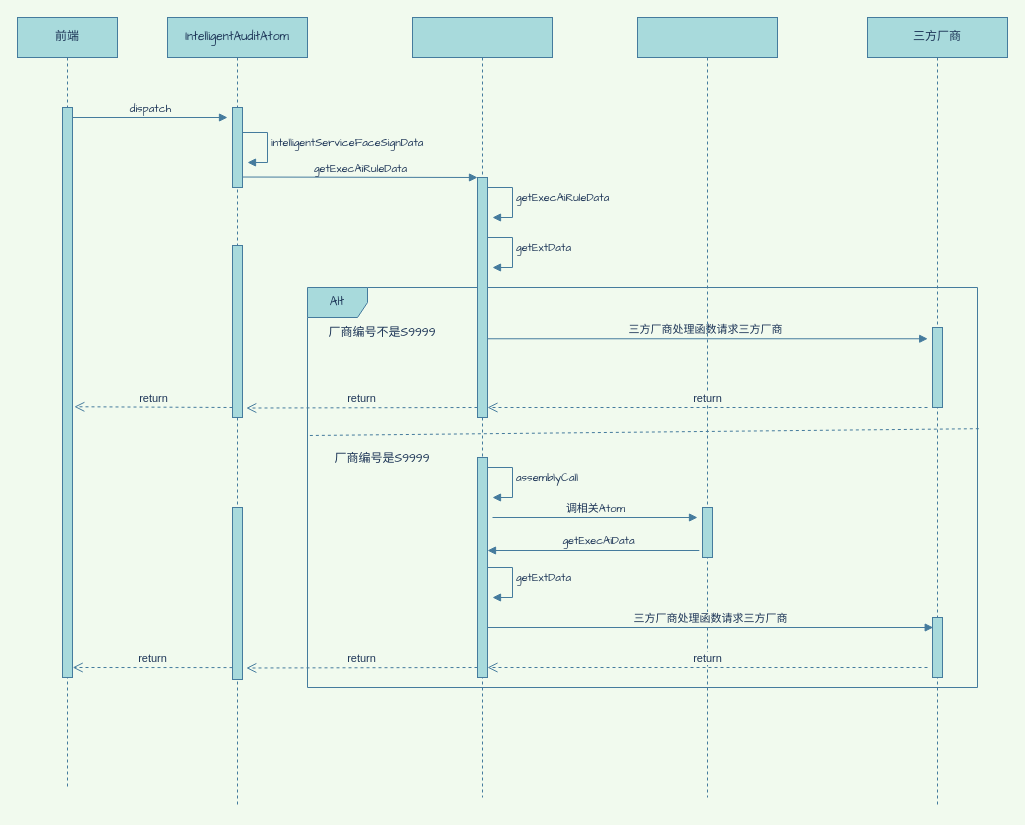
Some shapes in this 1025 by 825 pixel diagram are drawn without their labels. Here are the shapes that lost their labels. From the top down, the box of each, then its label:
(412, 16, 552, 798): IntelligentAuditBiz
(636, 16, 778, 798): IntelligentRuleUtil
